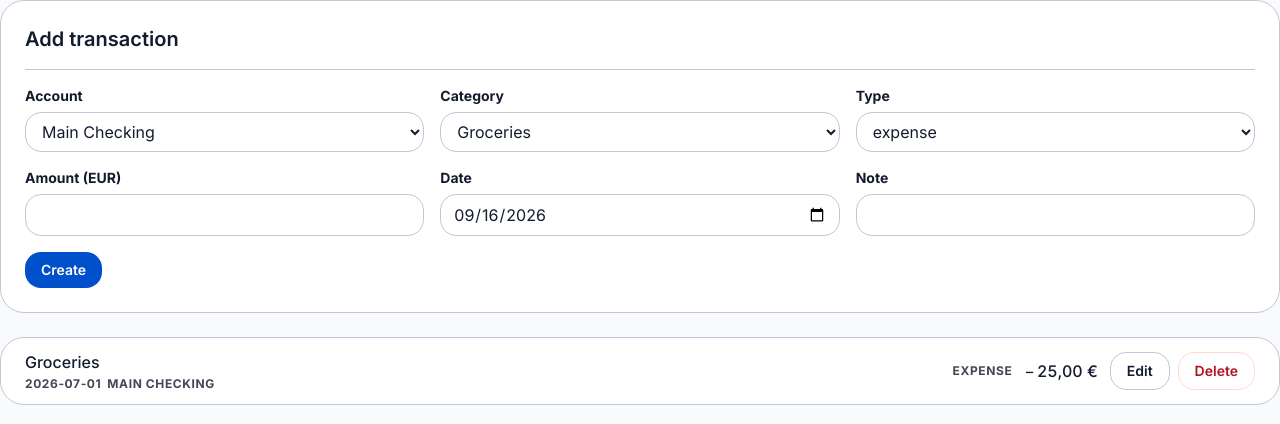
Test: TransactionsContainer › deletes a transaction
The image size is (1280, 424).
Expected: the list named "Transactions" is shown, [25,352,1255,391]
Click the button "Delete" at (1216, 371), box [1178,352,1255,390]
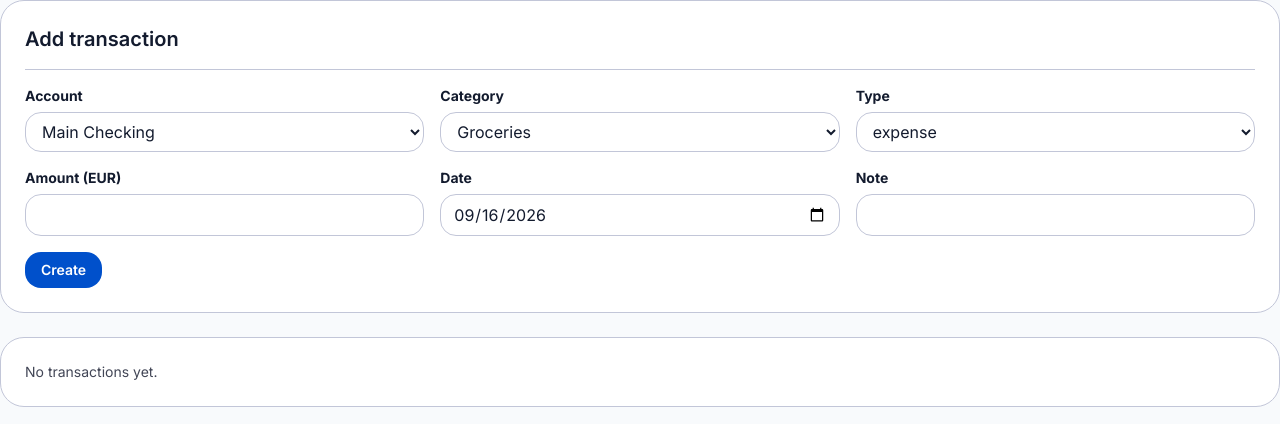
Expected: the text "No transactions yet." is shown, [25,363,158,380]
